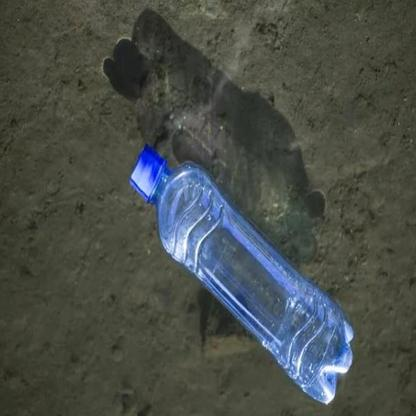plastic bottle: (128, 143, 353, 405)
